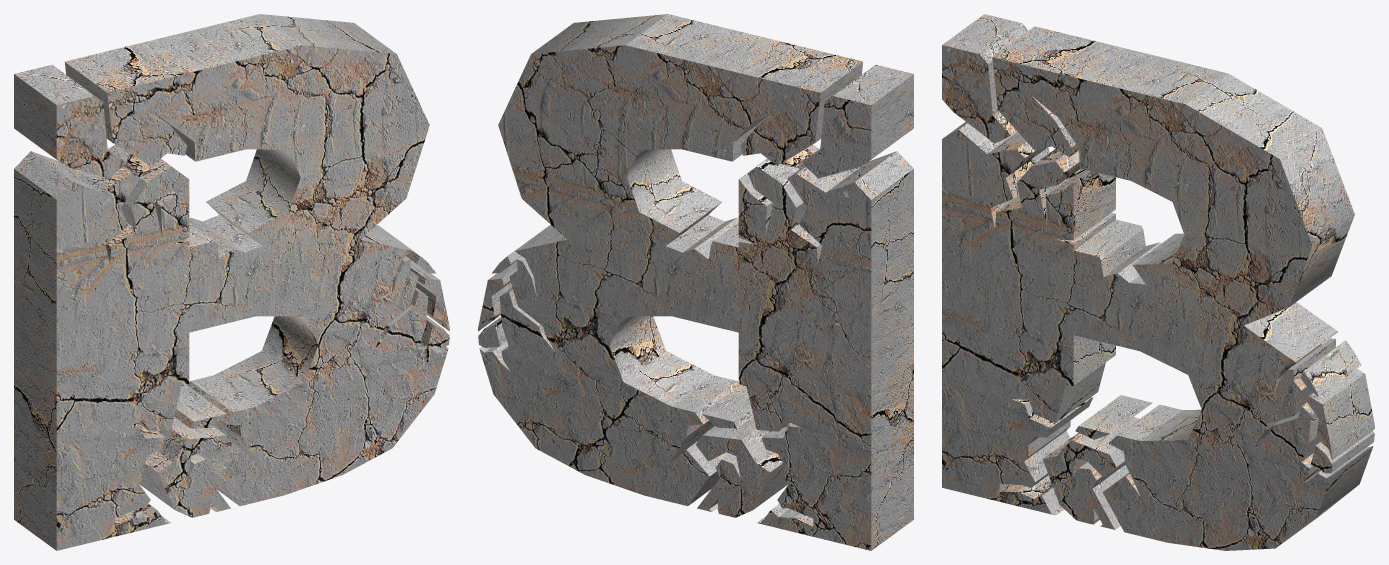
3 views of the same model, side by side, from view 1: azimuth 30°, elevation 25°; view 2: azimuth 150°, elevation 25°; view 3: azimuth 330°, elevation 25° (orthographic).
Visible parts, largest first — view 1: B; view 2: B; view 3: B.
Boxes of the visible parts, x1,y1,x2,y2 form: B: [14, 14, 449, 550]; B: [478, 14, 913, 550]; B: [942, 14, 1374, 550].
Size of the model in its own units: 79.73 by 86.36 by 15.
1 material, 1 textured.
